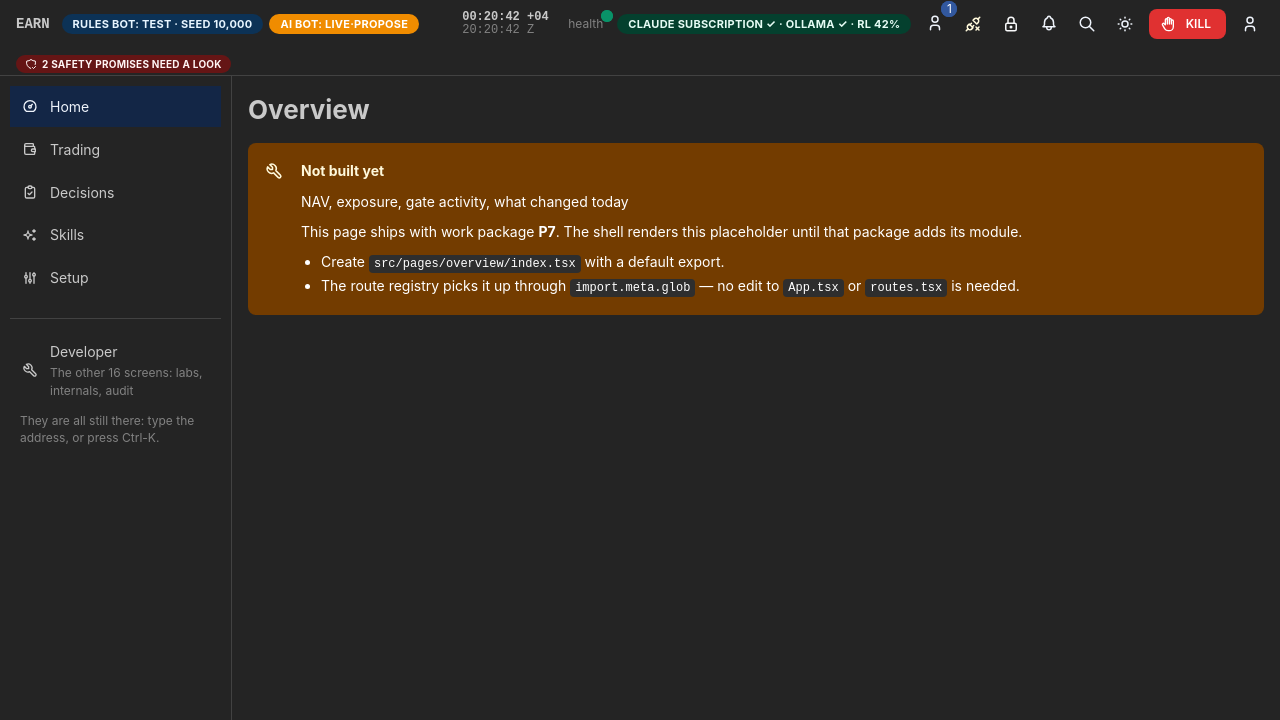
Test: shell › opens the command palette and lists every page
Click the button with test id "palette-button" at (1087, 24), box x1=1073 y1=10 x2=1101 y2=38
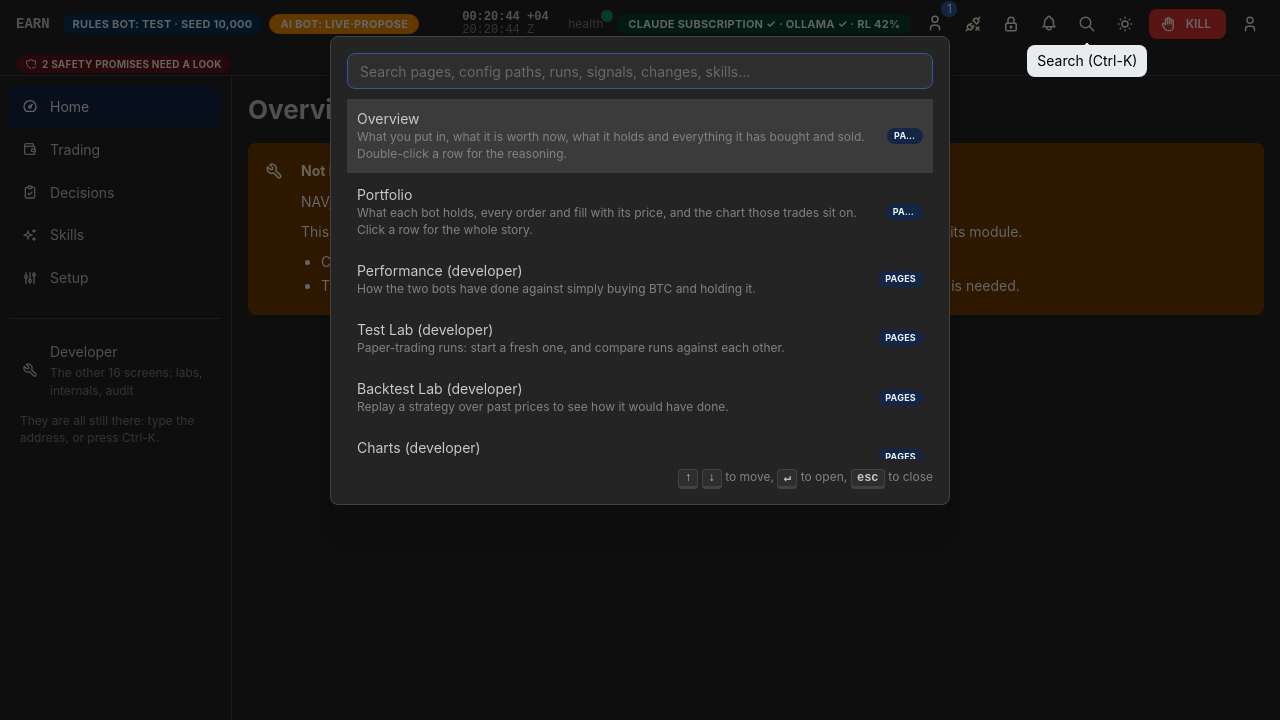
Type "invar" into the field with test id "palette-input" at (640, 71), box x1=347 y1=53 x2=933 y2=89
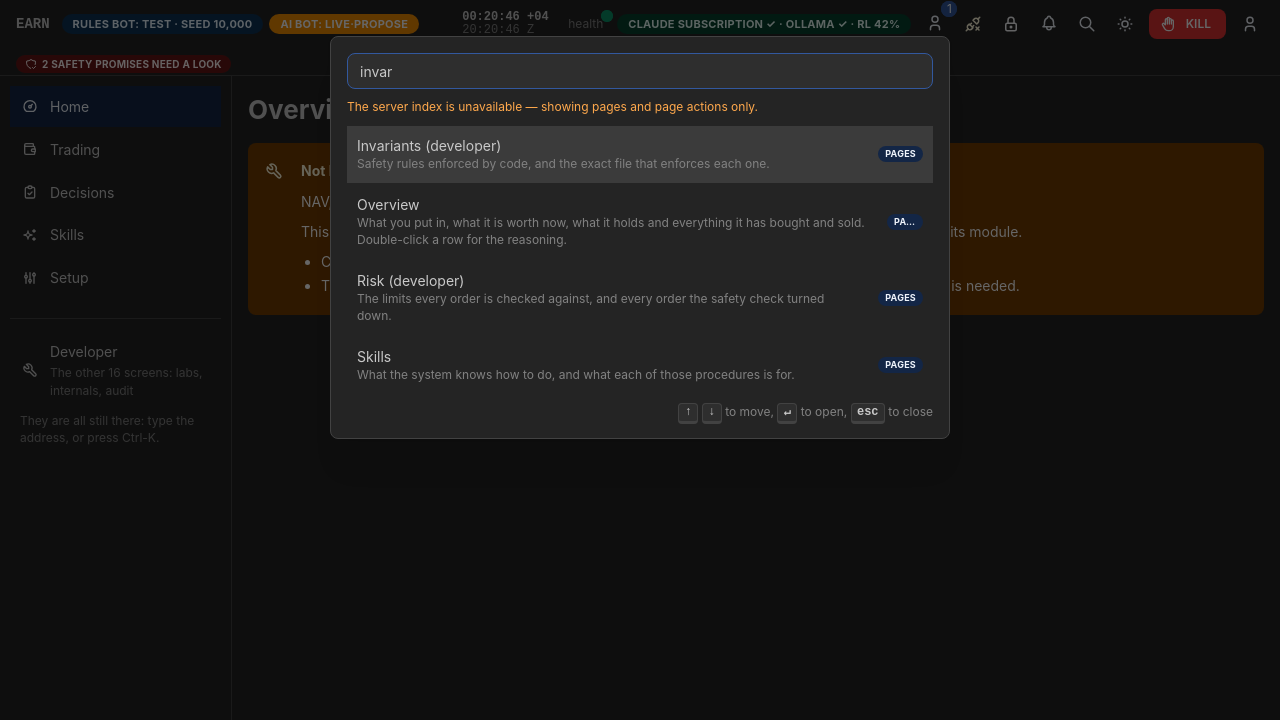
Expected: the button with test id "palette-item-nav:invariants" is shown, x1=347 y1=126 x2=933 y2=183
